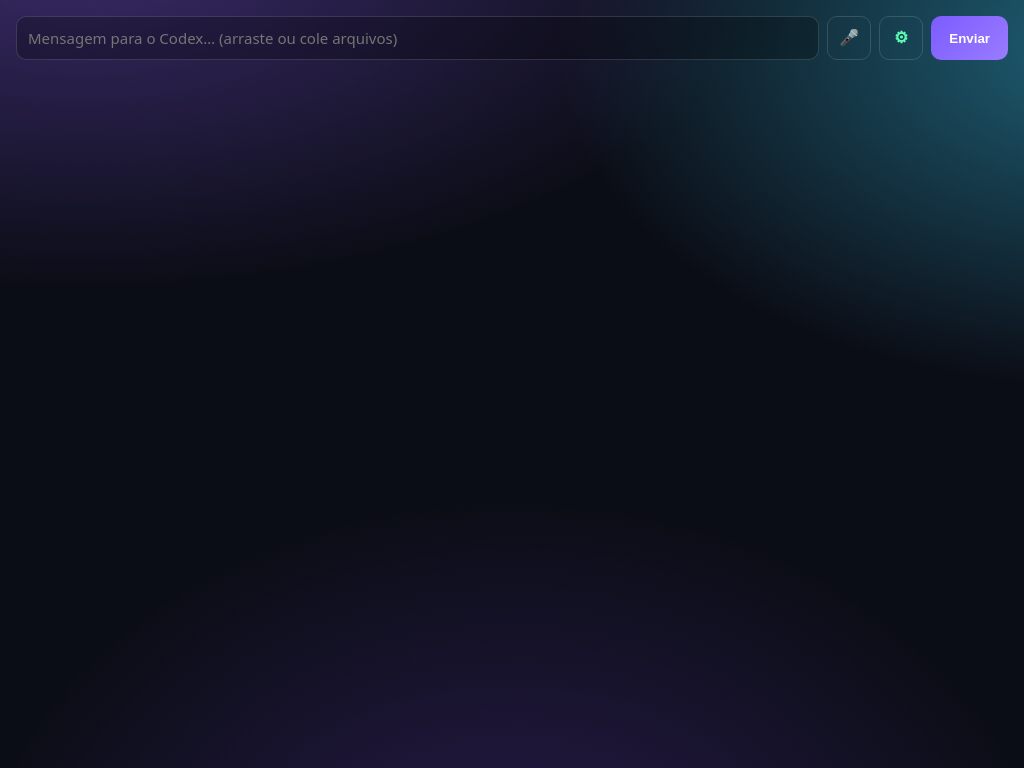
Test: @! como referência local › ignora respostas antigas e permite limpar a busca
Type "@!" into the text box at (418, 38), box [16,16,819,60]
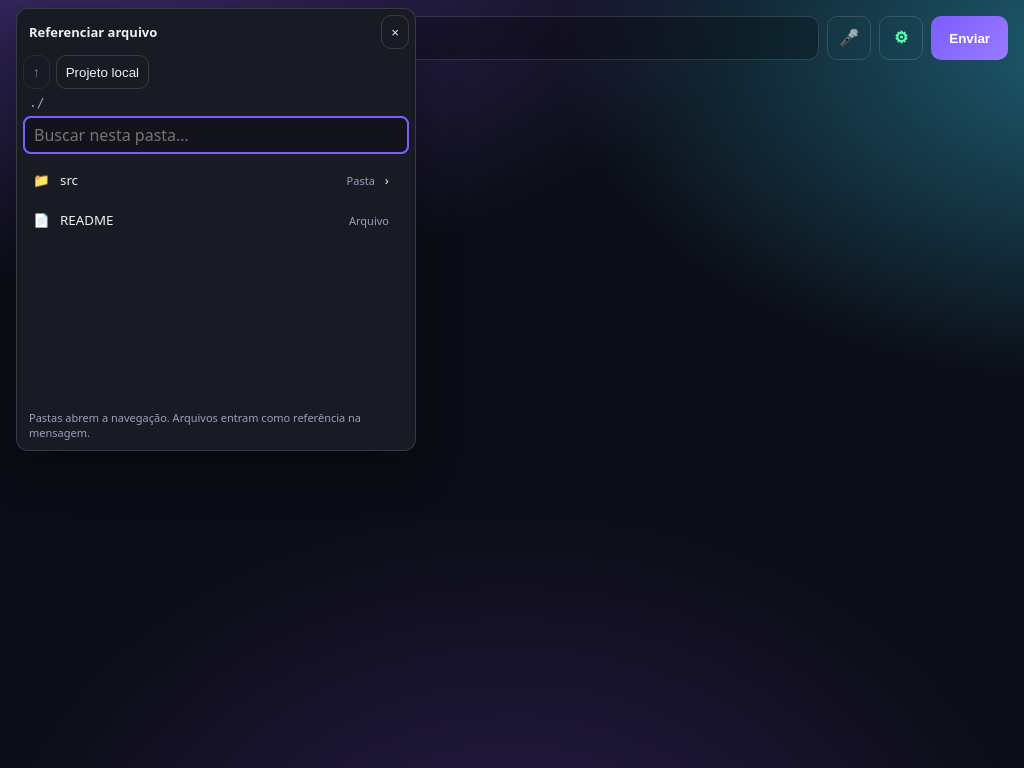
Expected: the button "📄 README Arquivo" is shown, [23,200,399,240]
Type "old" into the field labelled "Buscar nesta pasta…" at (216, 135), box [23,116,409,154]
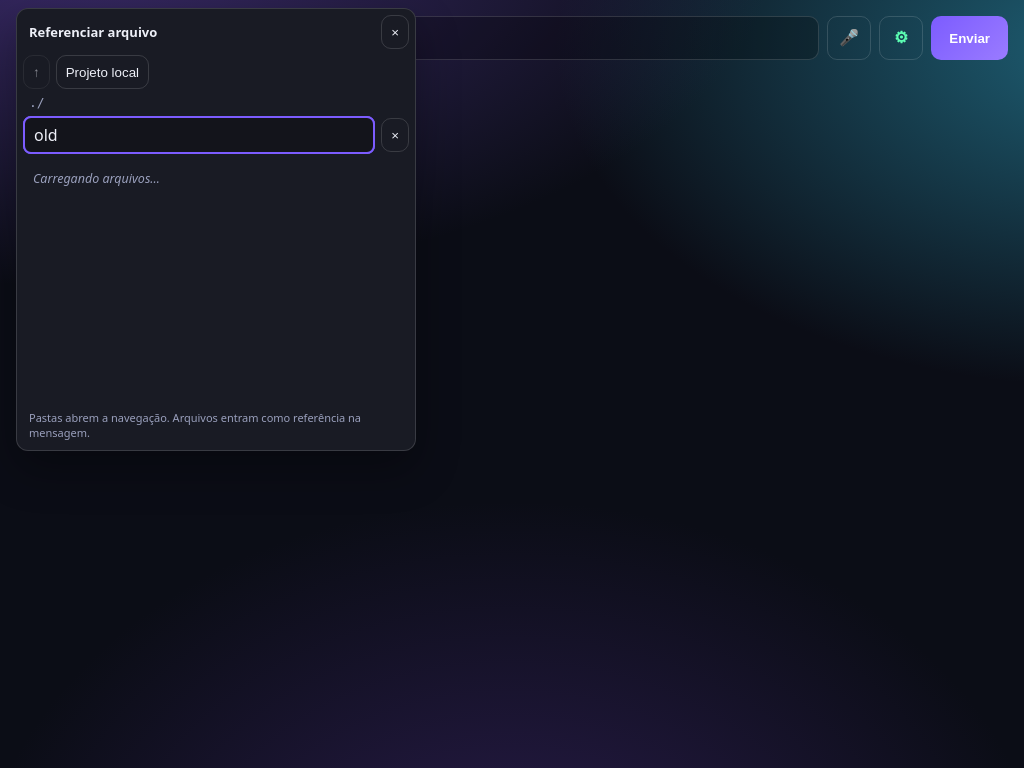
Click the button named "Limpar busca" at (395, 135), box [381,118,409,152]
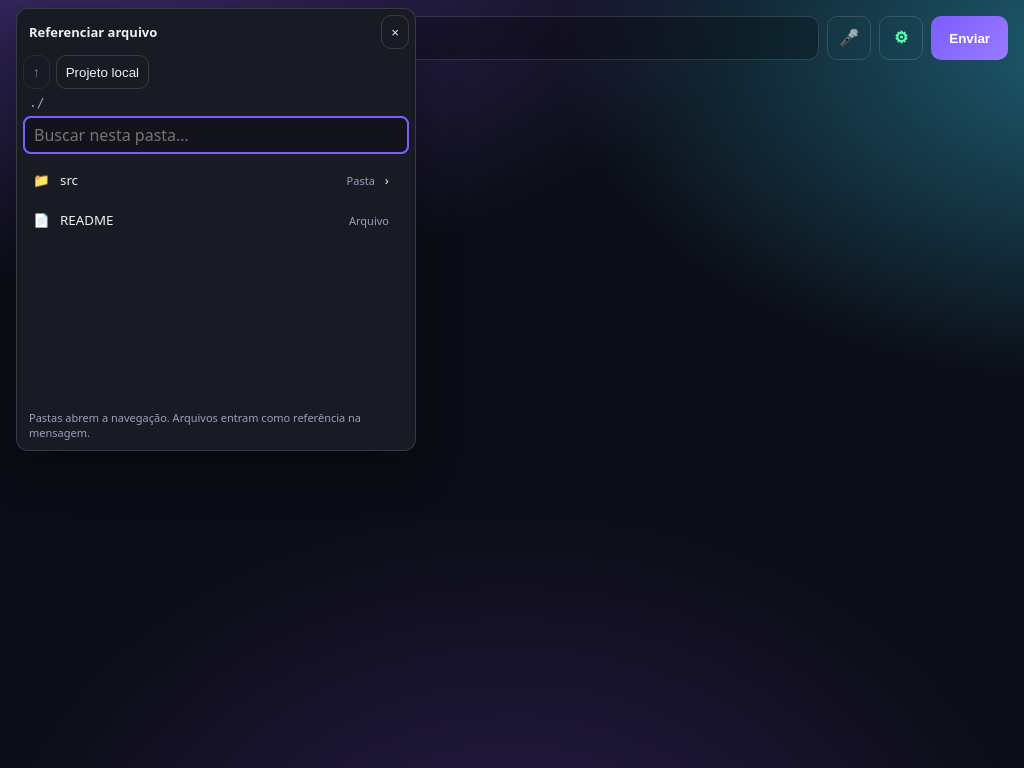
Expected: the button "📄 README Arquivo" is shown, [23,200,399,240]
